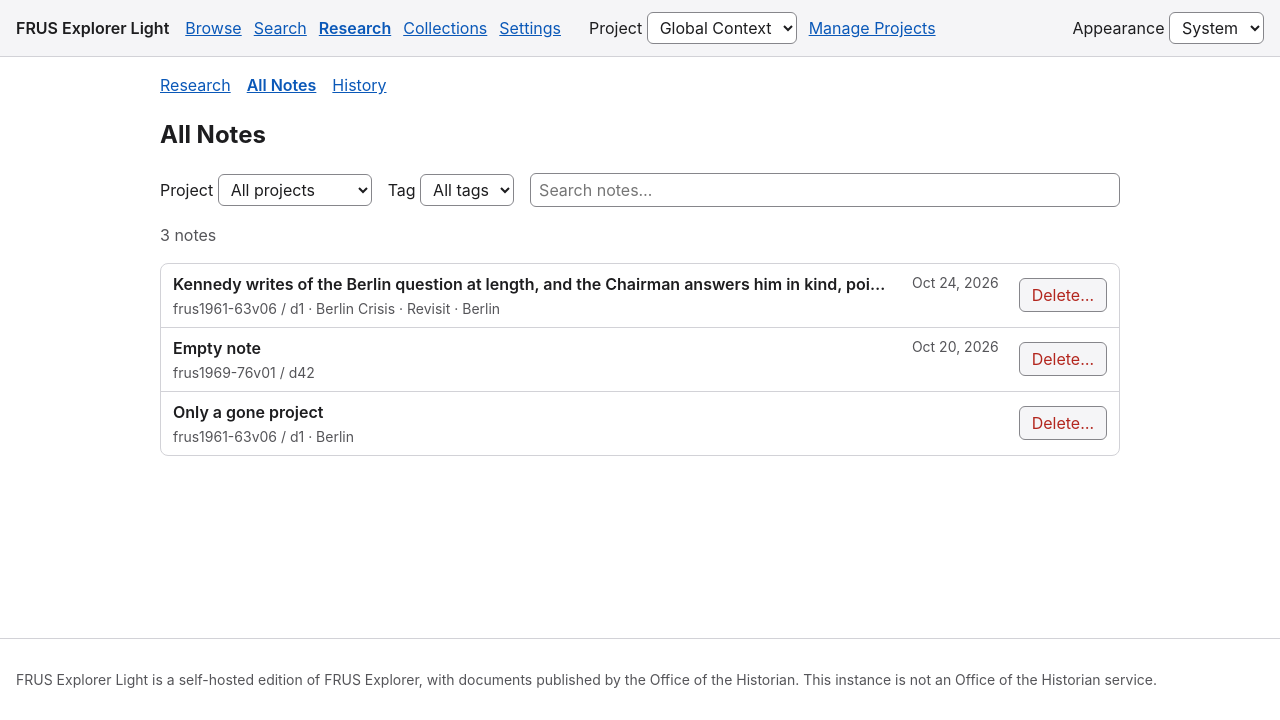
Scenario: All Notes › opens a row’s note in the editor, as the app’s sheet
Expected: the list named "All Notes" is shown, x1=160 y1=263 x2=1120 y2=456
Click the button "Empty note frus1969-76v01 / d42 Oct 20, 2026" at (217, 348), box x1=161 y1=328 x2=1011 y2=391
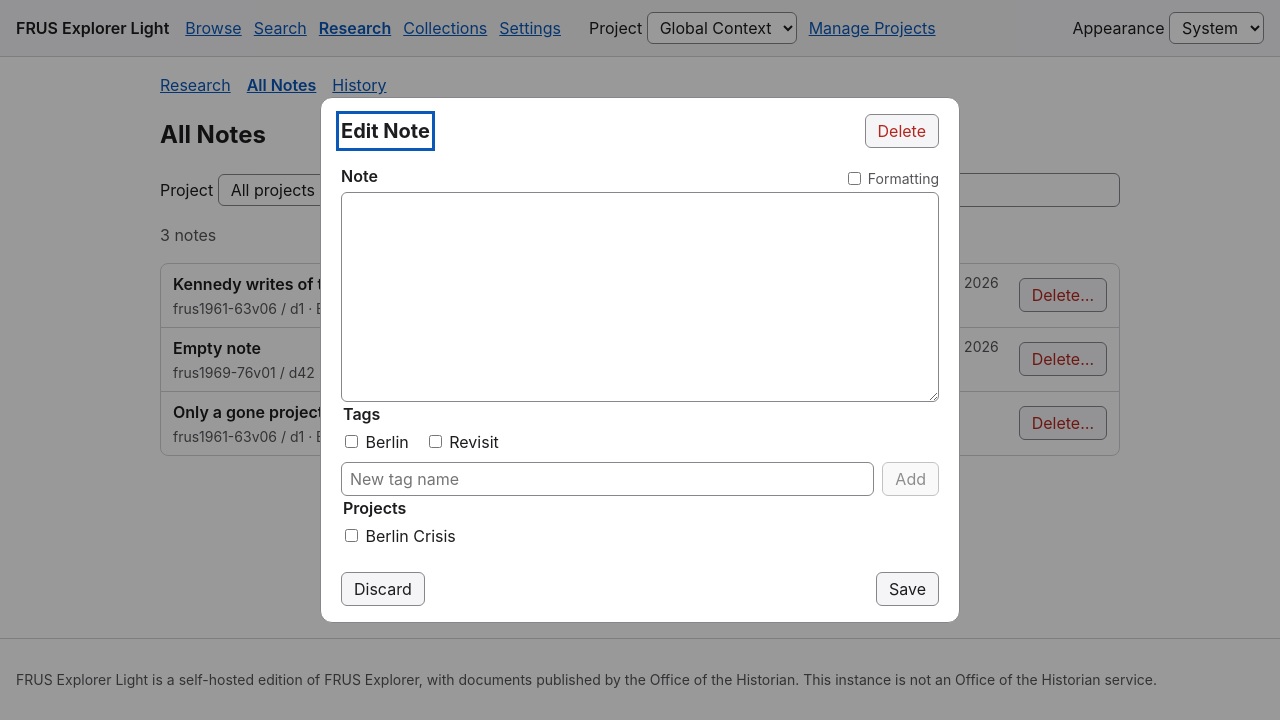
Type "Now written" into the text box named "Research note body" at (640, 297), box x1=341 y1=192 x2=939 y2=402
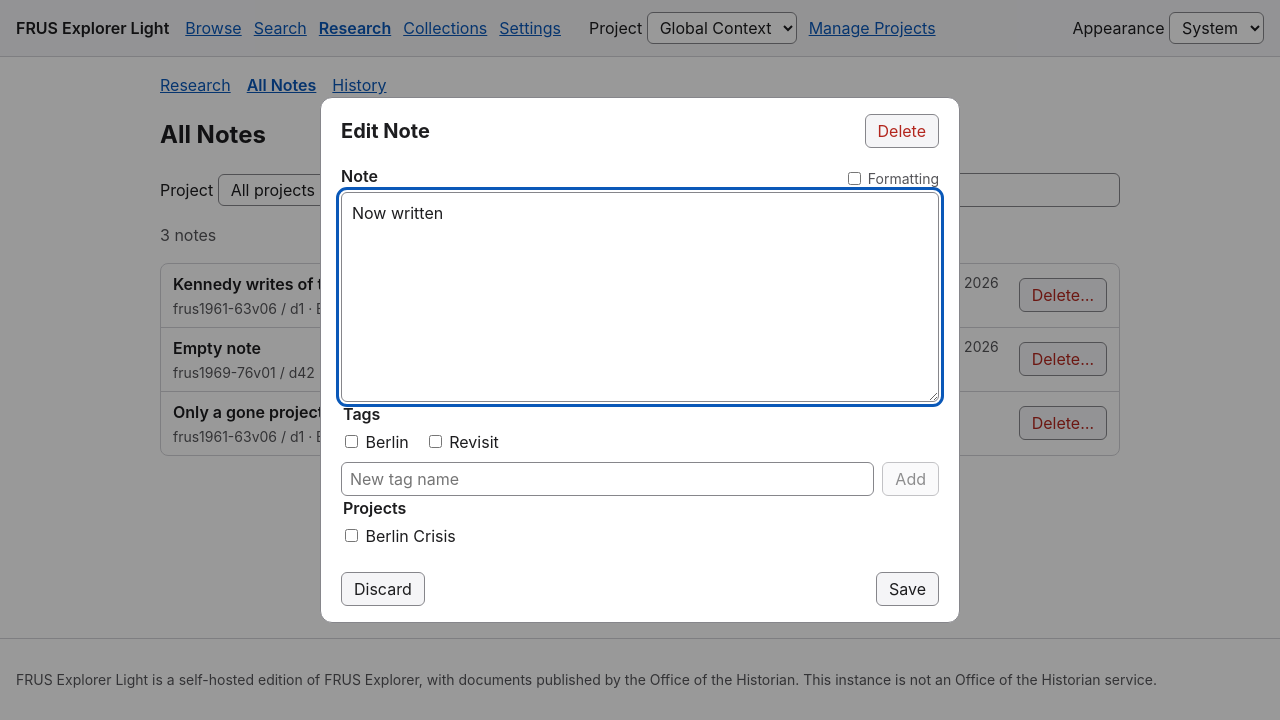
Click the button "Save" at (908, 589), box x1=876 y1=572 x2=939 y2=606
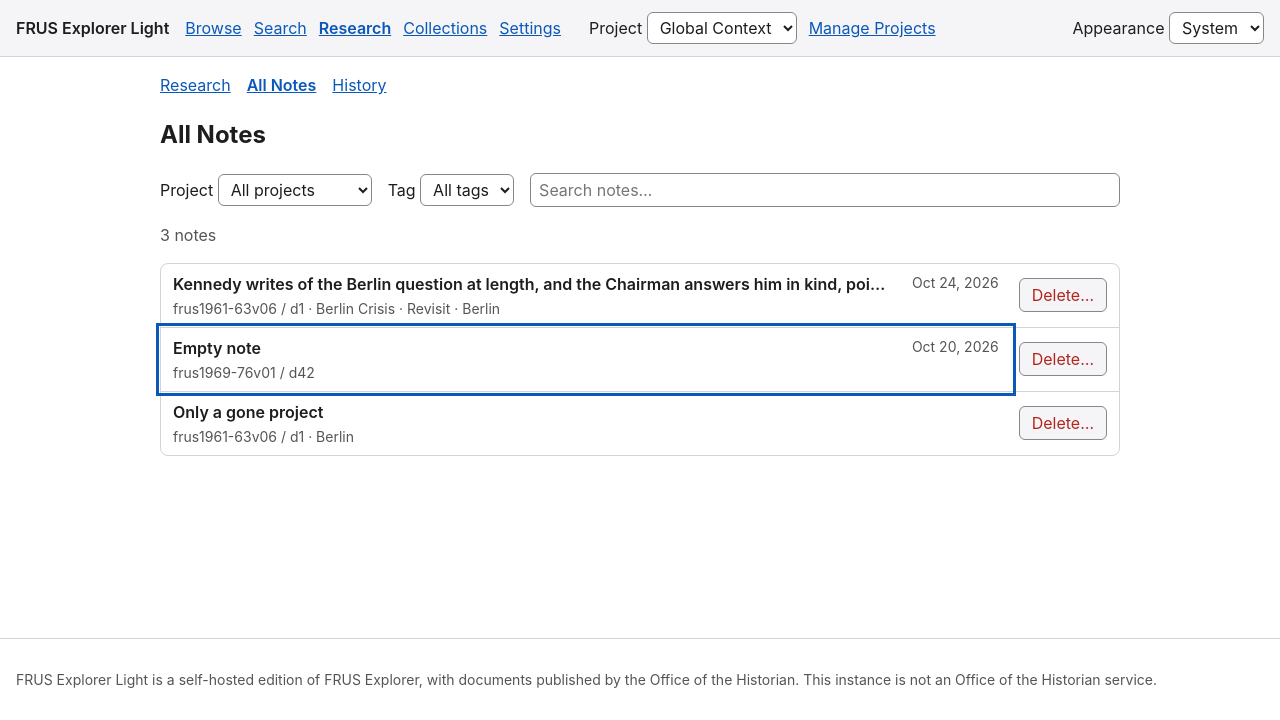
Result: the dialog is gone
